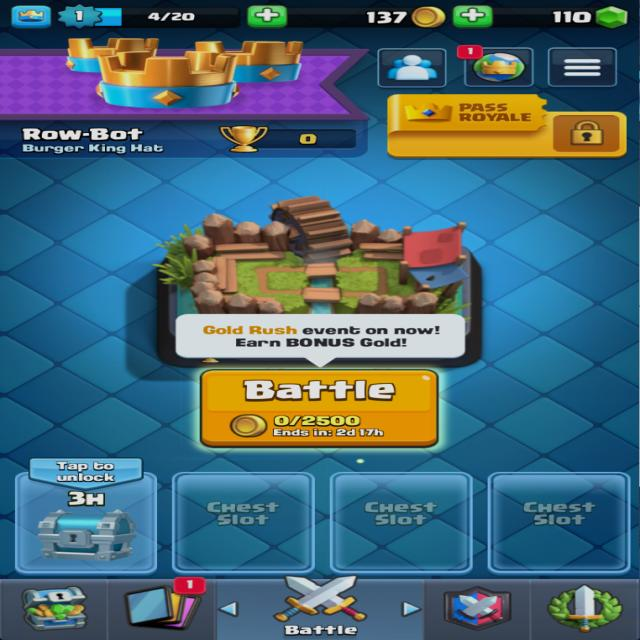Battle_Button: (197, 368, 444, 450)
Clan_Button: (428, 580, 528, 638)
Current_Gems: (451, 4, 629, 29)
Current_Level: (247, 3, 448, 30), (56, 4, 245, 30)
Deck_Button: (112, 580, 211, 638)
Empty_Chest: (329, 471, 473, 575), (488, 471, 632, 575), (173, 472, 314, 575), (455, 44, 536, 88)
Level_Up_Chests: (11, 6, 52, 30)
Options: (546, 46, 618, 88)
Pass_Royale: (384, 92, 628, 160)
Shop_Button: (6, 580, 104, 638)
Silver_Chest: (14, 457, 158, 578)
Social: (377, 48, 448, 88)
Tournament_Button: (532, 581, 636, 638)
Tropy_Count: (214, 122, 362, 152)
